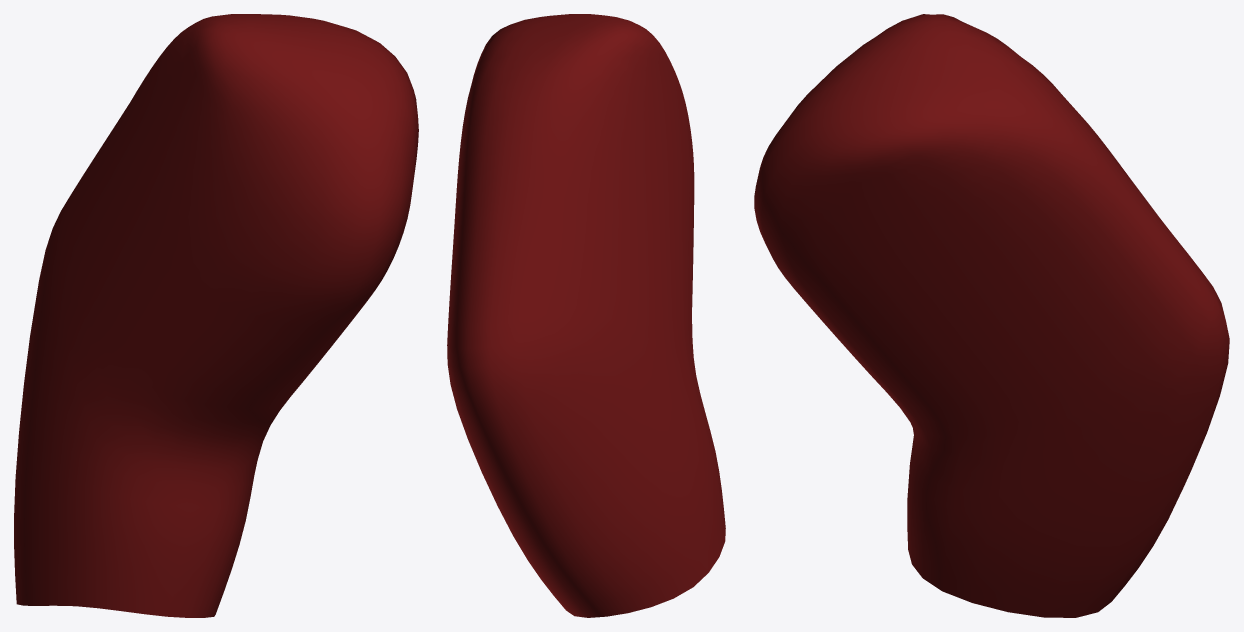
The model's file is RSBrazoDer.obj.
3 views of the same model, side by side, from view 1: azimuth 30°, elevation 25°; view 2: azimuth 150°, elevation 25°; view 3: azimuth 270°, elevation 25° (orthographic). The views are drawn at different scales.
Parts seen in each view (by area): view 1: BrazoDer; view 2: BrazoDer; view 3: BrazoDer.
Boxes of the visible parts, <box> form: BrazoDer: <box>14,14,418,617</box>; BrazoDer: <box>447,14,725,617</box>; BrazoDer: <box>754,14,1229,617</box>.
Size of the model in its own units: 8.82 by 16.8 by 11.95.
